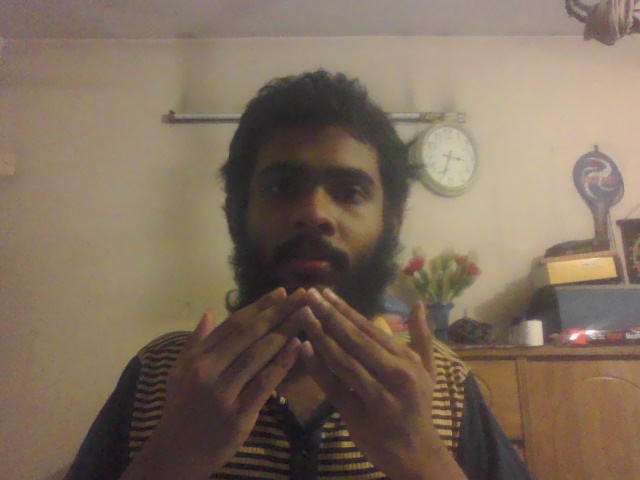Thank You: (169, 288, 455, 464)
